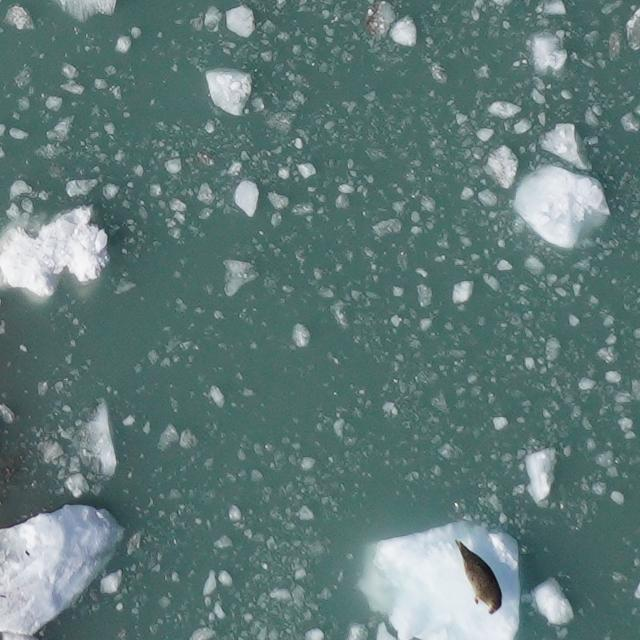seal: (451, 533, 506, 620)
